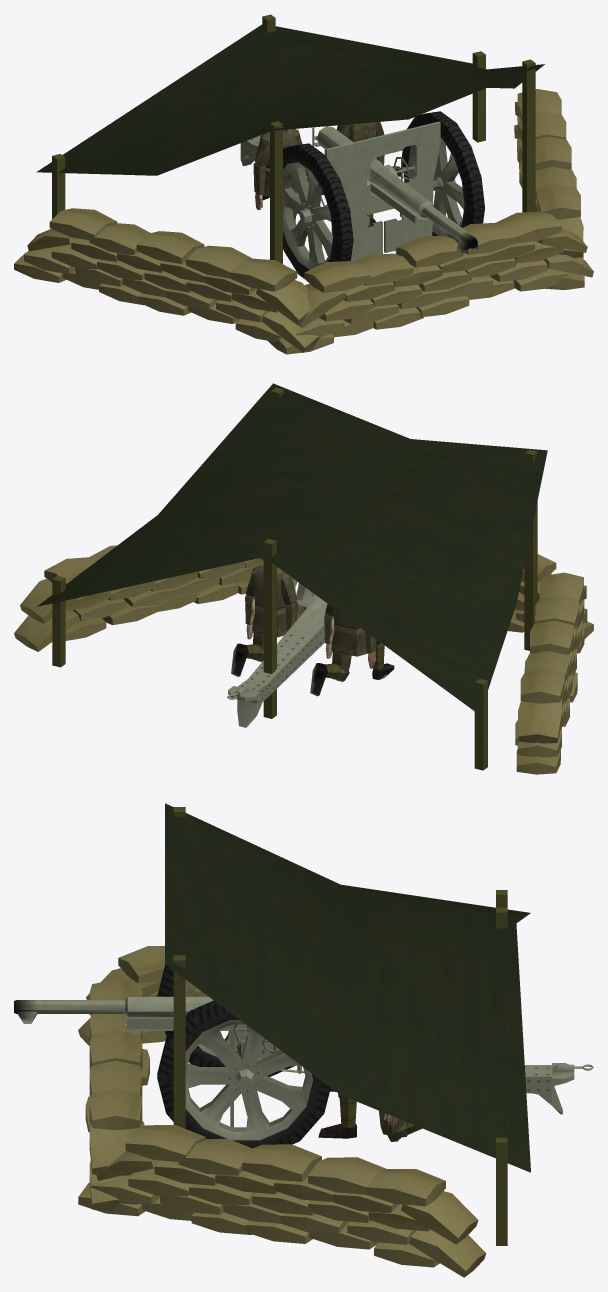
Rendered from FRA75mmMle1897_Stationary.dae.
3 renders of one model, top to bottom at view 1: azimuth 30°, elevation 25°; view 2: azimuth 150°, elevation 25°; view 3: azimuth 270°, elevation 25°, orthographic. The views are drawn at different scales.
Visible parts, largest first — view 1: base, wheels, carriage, barrel, sleeve, torso1, rloarm2, torso2; view 2: base, carriage, torso2, torso1; view 3: base, wheels, barrel, carriage, sleeve.
Part boxes in pixels (bbox=[...]): base: bbox=[14, 14, 593, 354]; wheels: bbox=[283, 111, 484, 278]; carriage: bbox=[240, 121, 443, 261]; barrel: bbox=[312, 126, 478, 253]; sleeve: bbox=[368, 180, 433, 229]; torso1: bbox=[348, 122, 377, 158]; rloarm2: bbox=[253, 163, 266, 209]; torso2: bbox=[263, 129, 297, 197]; base: bbox=[14, 383, 593, 774]; carriage: bbox=[227, 578, 327, 727]; torso2: bbox=[329, 608, 367, 656]; torso1: bbox=[250, 565, 287, 637]; base: bbox=[78, 803, 530, 1277]; wheels: bbox=[157, 964, 330, 1148]; barrel: bbox=[14, 996, 213, 1023]; carriage: bbox=[230, 1024, 593, 1127]; sleeve: bbox=[125, 1016, 247, 1033].
Bounding box in the file's own units: 51.33 × 39.61 × 18.15.
1 material, 1 textured.
